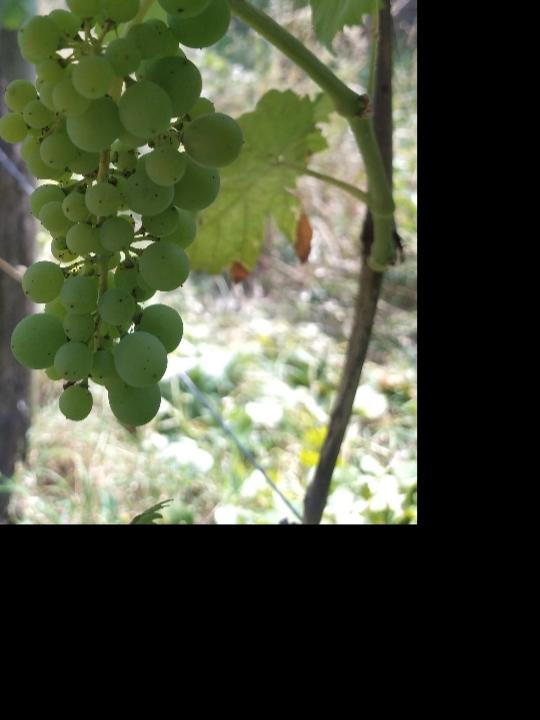grape: (0, 0, 251, 431)
